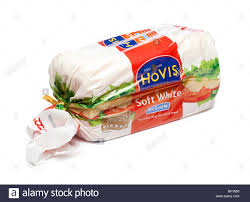bread: (27, 30, 226, 140)
